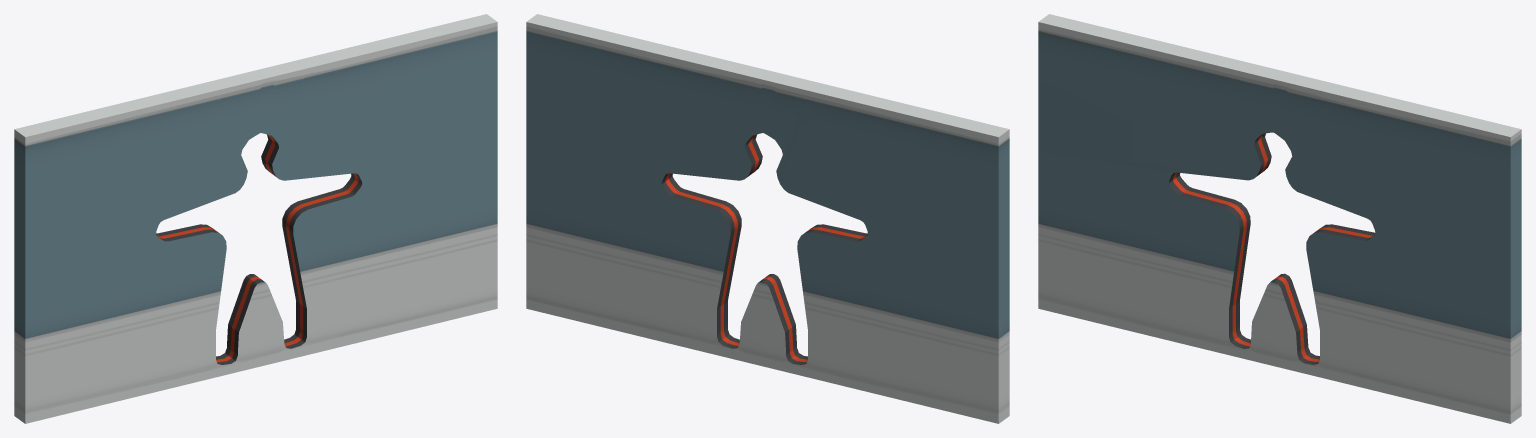
File: Wall_Hole.fbx
3 renders of one model, left to right at view 1: azimuth 30°, elevation 25°; view 2: azimuth 150°, elevation 25°; view 3: azimuth 330°, elevation 25°, orthographic.
Parts seen in each view (by area): view 1: asdasd; view 2: asdasd; view 3: asdasd.
Boxes of the visible parts, <box> form: asdasd: <box>14,14,497,423</box>; asdasd: <box>526,14,1009,423</box>; asdasd: <box>1038,14,1521,423</box>.
Bounding box in the file's own units: 500 × 290 × 20.11.
1 material, 1 textured.
